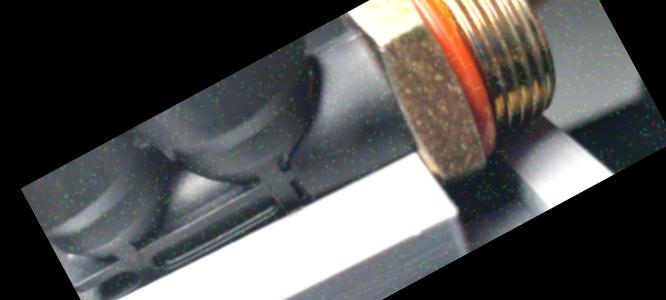joint line: (317, 41, 345, 60)
white mark: (340, 25, 364, 46)
